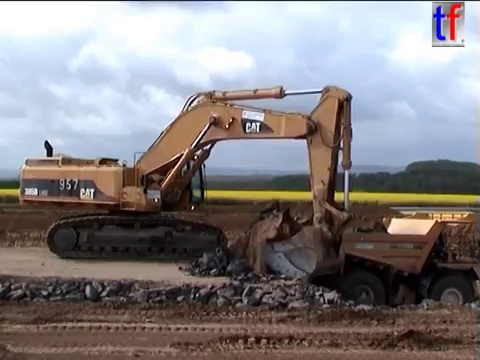excavator: (15, 82, 358, 282)
truck: (284, 208, 480, 321)
